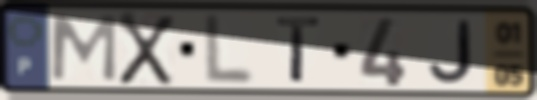4: (356, 14, 410, 90)
J: (427, 19, 476, 86)
L: (201, 11, 257, 88)
M: (47, 13, 119, 84)
T: (273, 15, 324, 86)
X: (116, 10, 178, 88)
